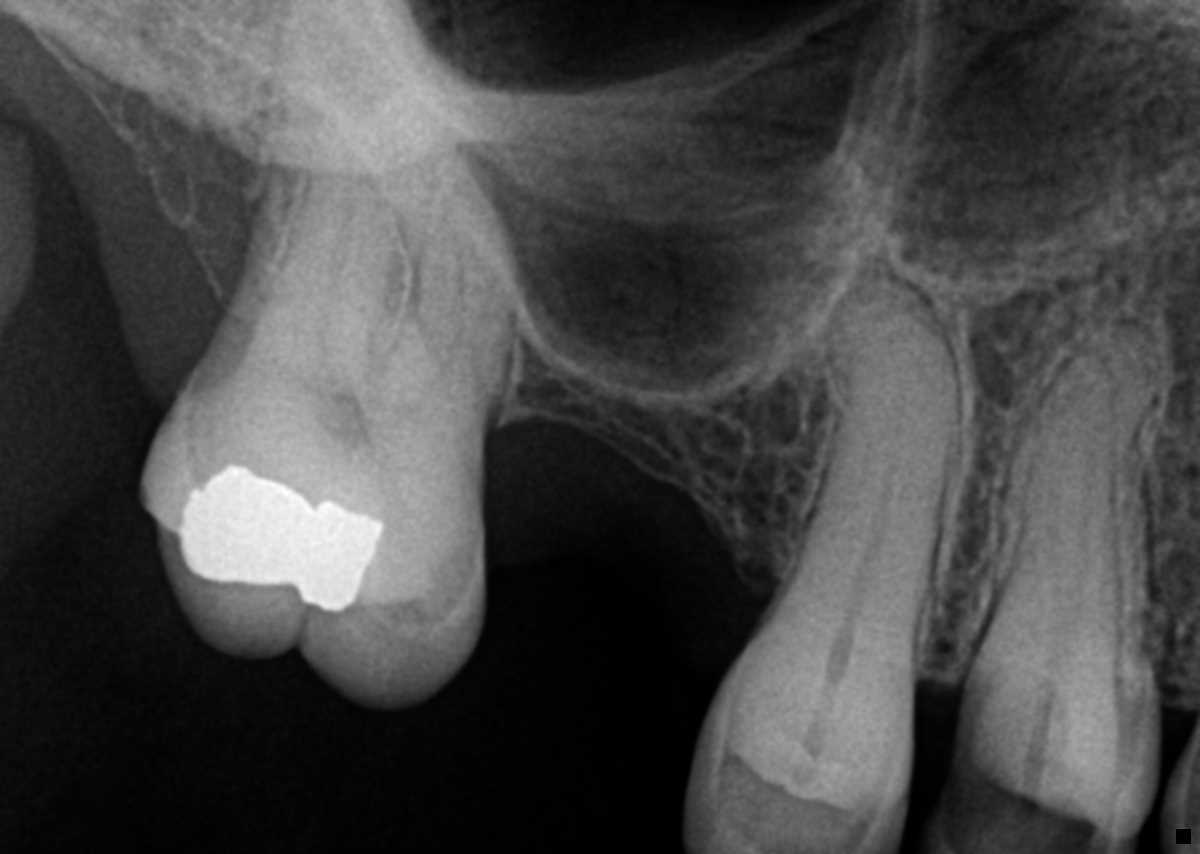Distal Root: (245, 97, 396, 363)
Main Canal: (844, 355, 903, 621)
Main Root: (787, 270, 960, 643), (992, 320, 1160, 670)
Mesial Canal: (405, 198, 461, 411)
Mesial Root: (335, 85, 515, 411)
Palatal Root: (231, 0, 471, 395)
decay: (949, 681, 1097, 854)
